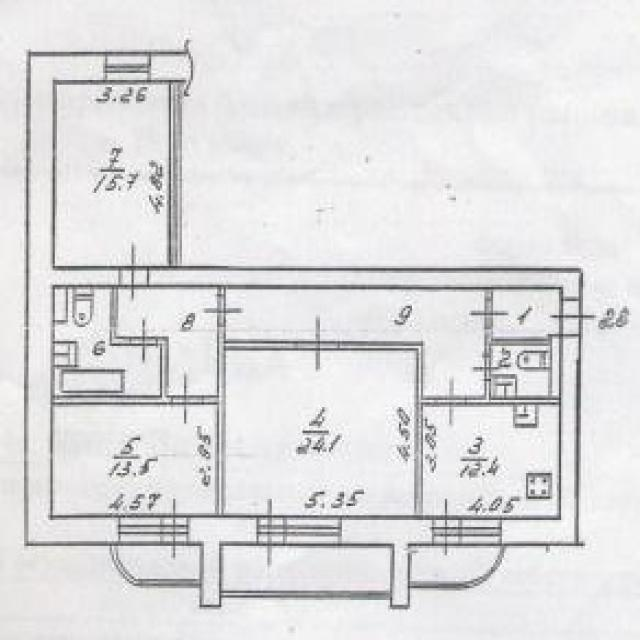Bathrooms: (54, 287, 161, 396), (492, 347, 550, 396)
Corridors: (225, 289, 485, 396), (118, 289, 217, 396), (223, 546, 391, 591), (493, 289, 559, 337), (411, 546, 501, 579), (117, 545, 200, 579)
Doors: (294, 313, 339, 373), (255, 497, 284, 568), (117, 239, 149, 303), (548, 298, 598, 336), (431, 496, 460, 559), (161, 496, 188, 561), (172, 370, 203, 426), (434, 374, 467, 426), (200, 293, 245, 326), (130, 317, 157, 365), (469, 298, 510, 329), (472, 355, 503, 381)
LBwalls: (24, 51, 120, 546), (502, 335, 581, 546), (148, 265, 583, 297), (341, 515, 433, 610), (188, 514, 256, 609), (151, 36, 195, 99), (168, 82, 182, 266)
Offices: (226, 351, 413, 514), (56, 83, 168, 265), (52, 406, 216, 514), (424, 405, 559, 517)
Walls: (202, 324, 296, 515), (338, 341, 434, 515), (52, 335, 173, 405), (464, 328, 559, 404), (410, 545, 508, 591), (107, 544, 200, 588), (221, 591, 391, 600), (109, 287, 130, 347), (54, 287, 67, 323), (485, 289, 493, 299), (217, 287, 226, 294)
Windows: (284, 515, 342, 546), (104, 50, 151, 83), (118, 514, 161, 546), (459, 515, 502, 546)
